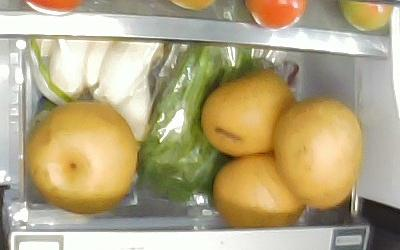pear: (31, 101, 136, 210), (273, 96, 362, 212), (202, 66, 297, 157), (212, 154, 304, 225)
